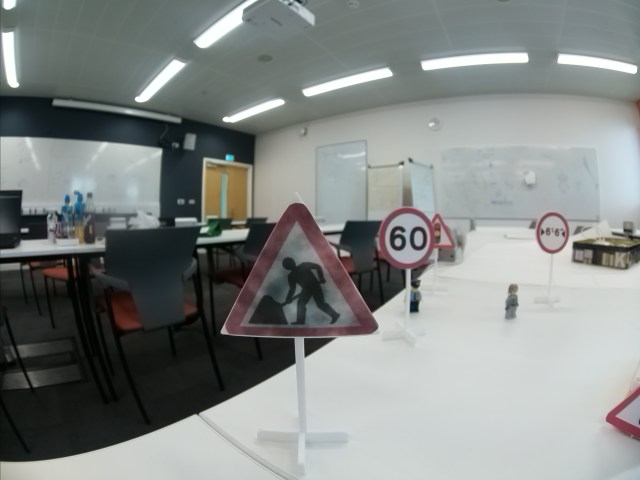60mph: (378, 206, 435, 269)
6ft6: (536, 211, 570, 253)
Lego Man: (502, 281, 525, 320), (408, 275, 426, 313)
Roadworks: (221, 202, 370, 338)
Traffic lights: (432, 214, 455, 247)
